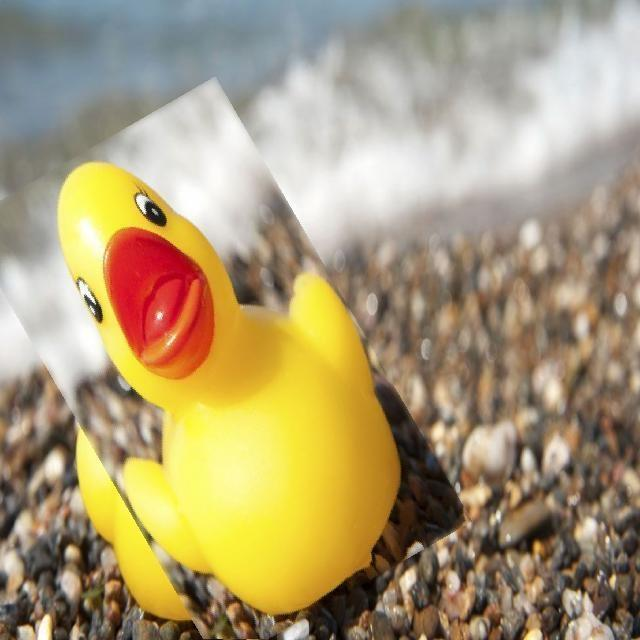rubber-duck: (1, 80, 399, 620), (96, 373, 163, 489)
